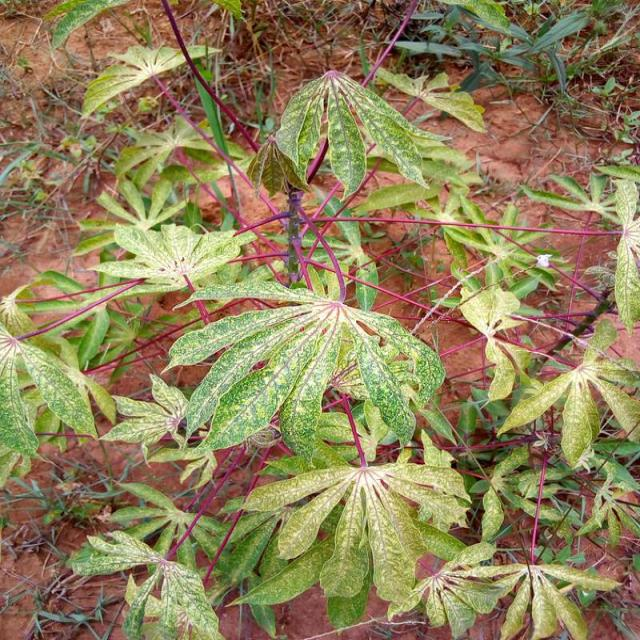cassava leaf: (166, 254, 446, 464), (274, 68, 431, 201)
